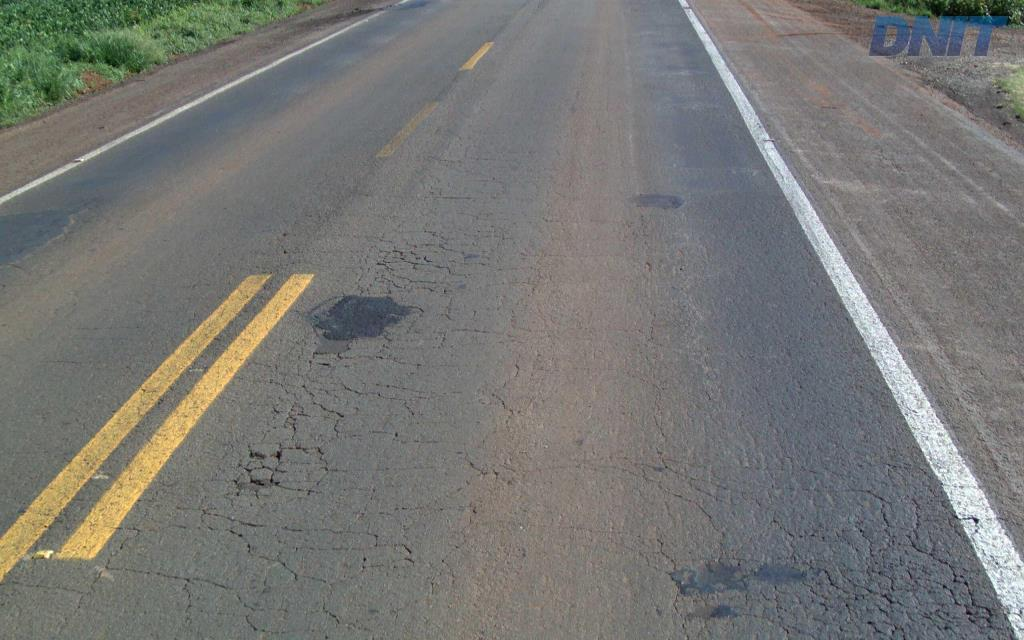crack: (223, 444, 322, 499), (905, 534, 974, 601), (802, 559, 902, 600), (269, 439, 338, 474), (705, 557, 746, 589)
